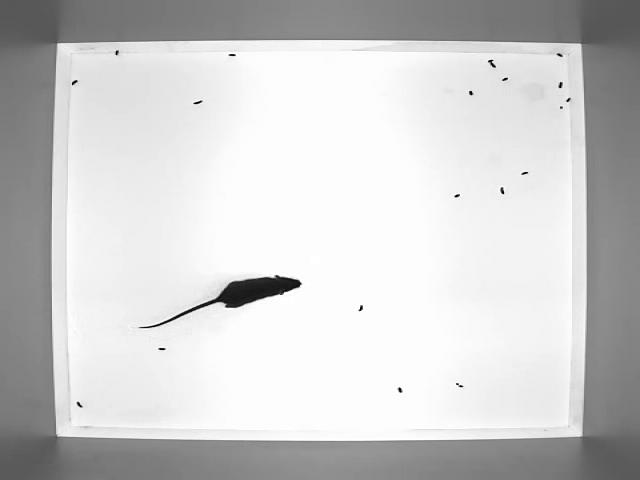Tikus: (134, 270, 304, 333)
